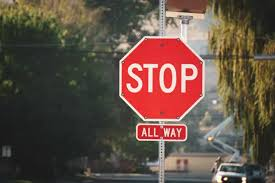stop sign: (119, 36, 205, 122)
